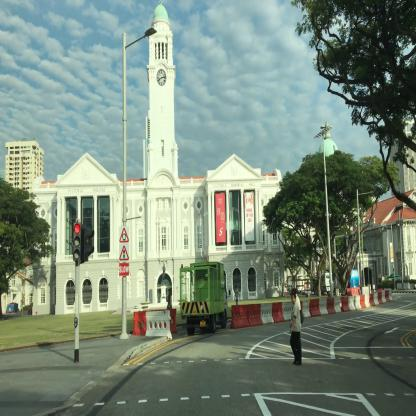red_traffic_light: (74, 224, 79, 260)
